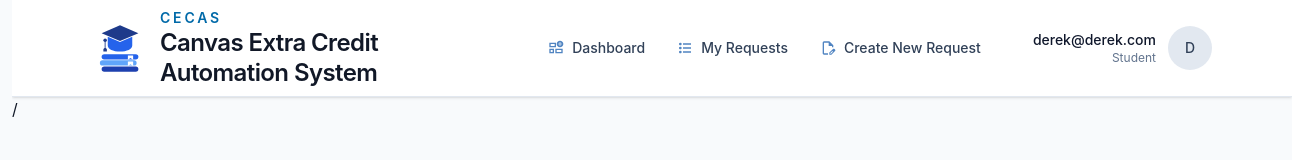
Test case: Navbar › uses the authenticated email when the profile request fails
Click the button named "Open account options for derek@derek.com".
click(1190, 48)  # box [1168, 26, 1212, 70]
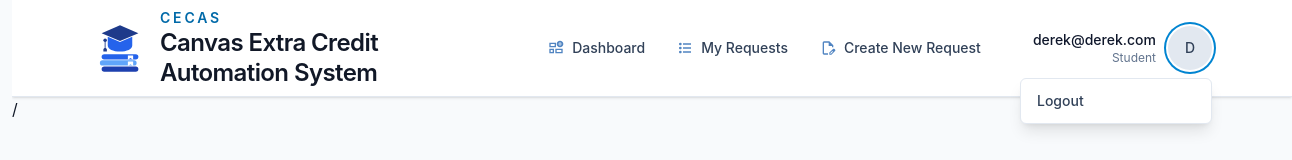
Now the button named "Open account options for derek@derek.com" is expanded, box [1168, 26, 1212, 70]
Now the button "Logout" is enabled, box [1021, 79, 1211, 123]
